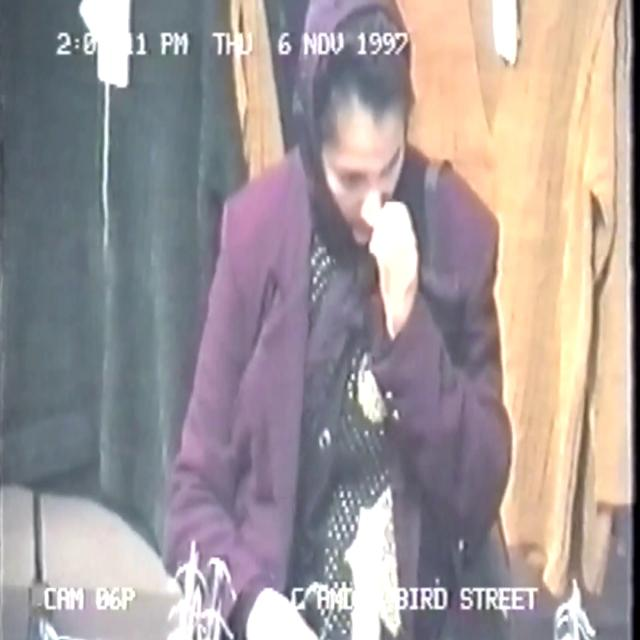normal: (143, 0, 532, 640)
